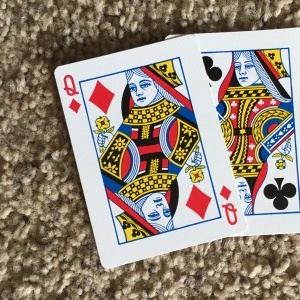card: (53, 39, 242, 261)
